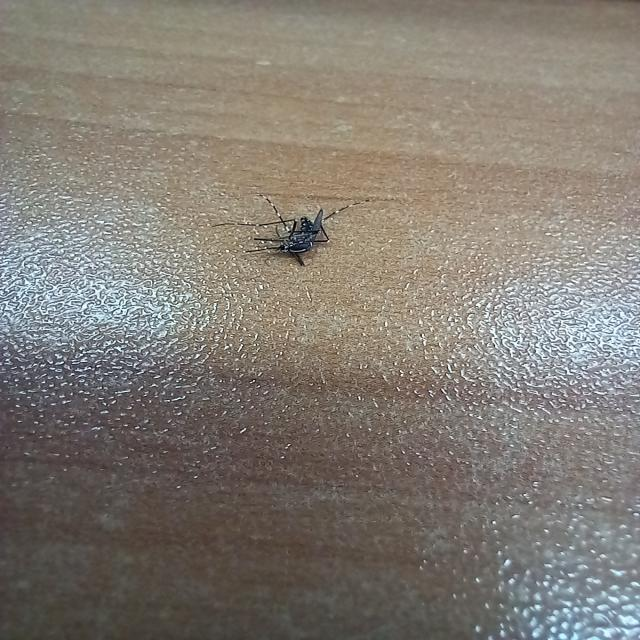albopictus: (204, 184, 362, 269)
